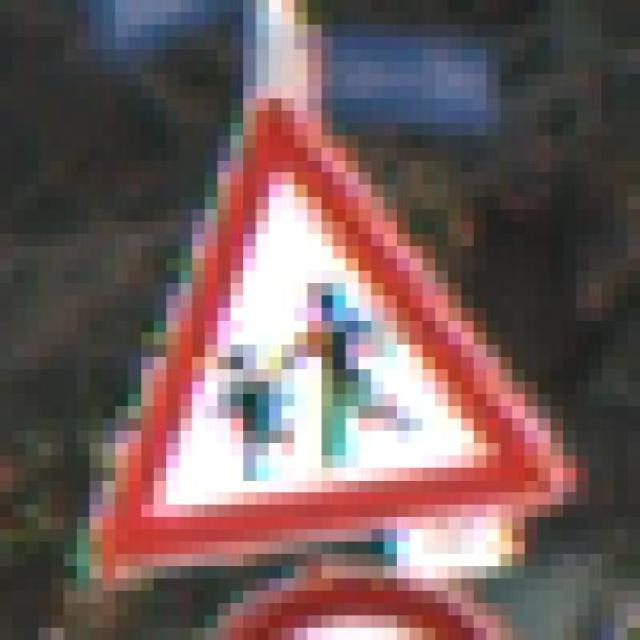Beware of children: (26, 86, 576, 566)
